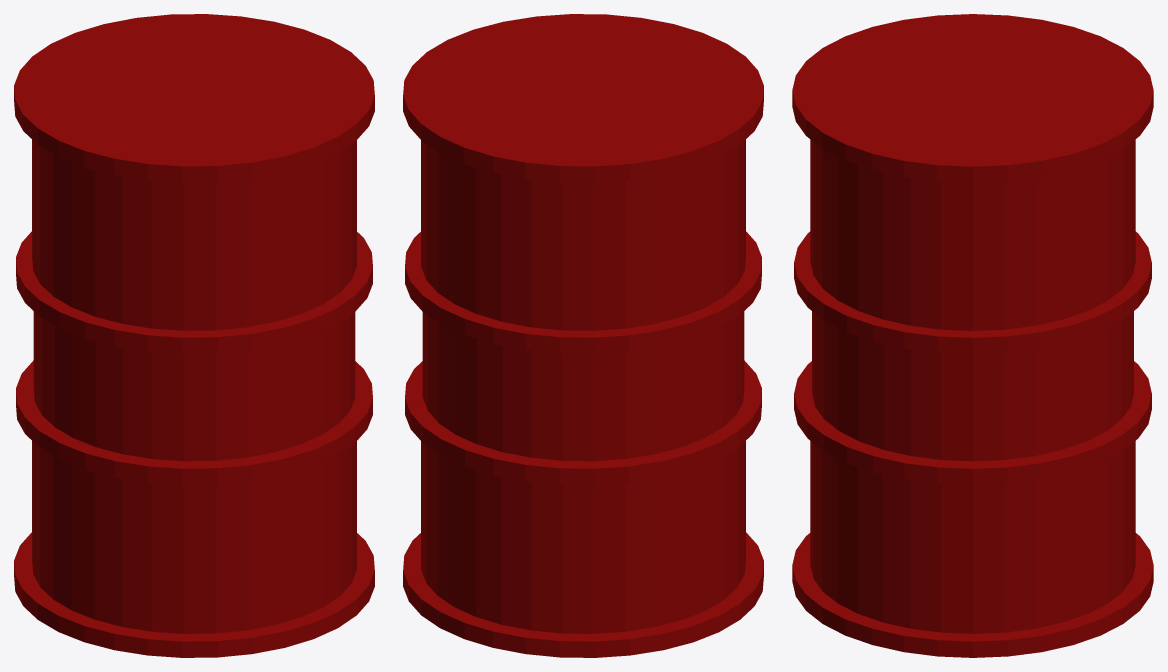
File: Barrel.fbx
The picture shows the model from 3 angles, left to right: view 1: azimuth 30°, elevation 25°; view 2: azimuth 150°, elevation 25°; view 3: azimuth 270°, elevation 25°; orthographic projection.
Visible parts, largest first — view 1: Barrel; view 2: Barrel; view 3: Barrel.
Part boxes in pixels (x1,y1,x2,y2): Barrel: [14, 14, 374, 657]; Barrel: [403, 14, 763, 657]; Barrel: [792, 14, 1153, 657].
Bounding box in the file's own units: 40 × 60 × 40.
